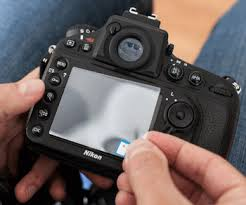camera: (28, 16, 241, 184)
